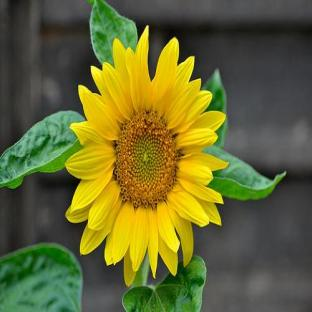sunflower: (62, 0, 285, 287)
